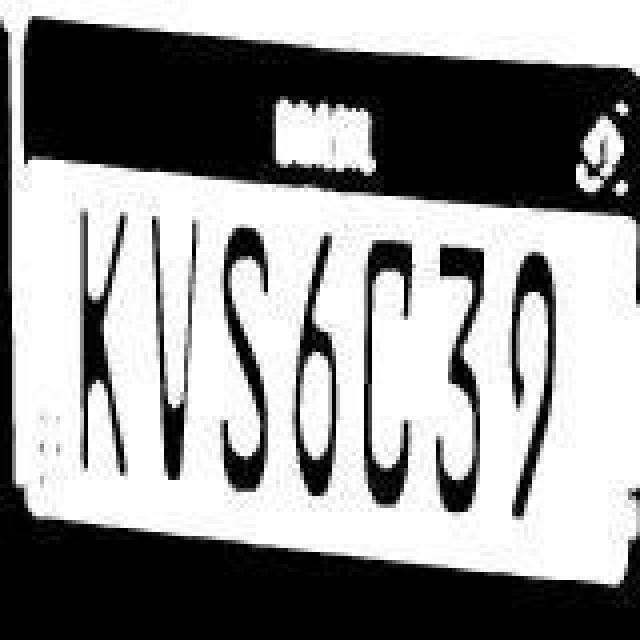3: (430, 212, 498, 524)
6: (284, 214, 356, 522)
9: (502, 214, 570, 522)
C: (354, 212, 422, 524)
K: (66, 206, 142, 514)
S: (208, 216, 280, 520)
V: (146, 218, 206, 518)
